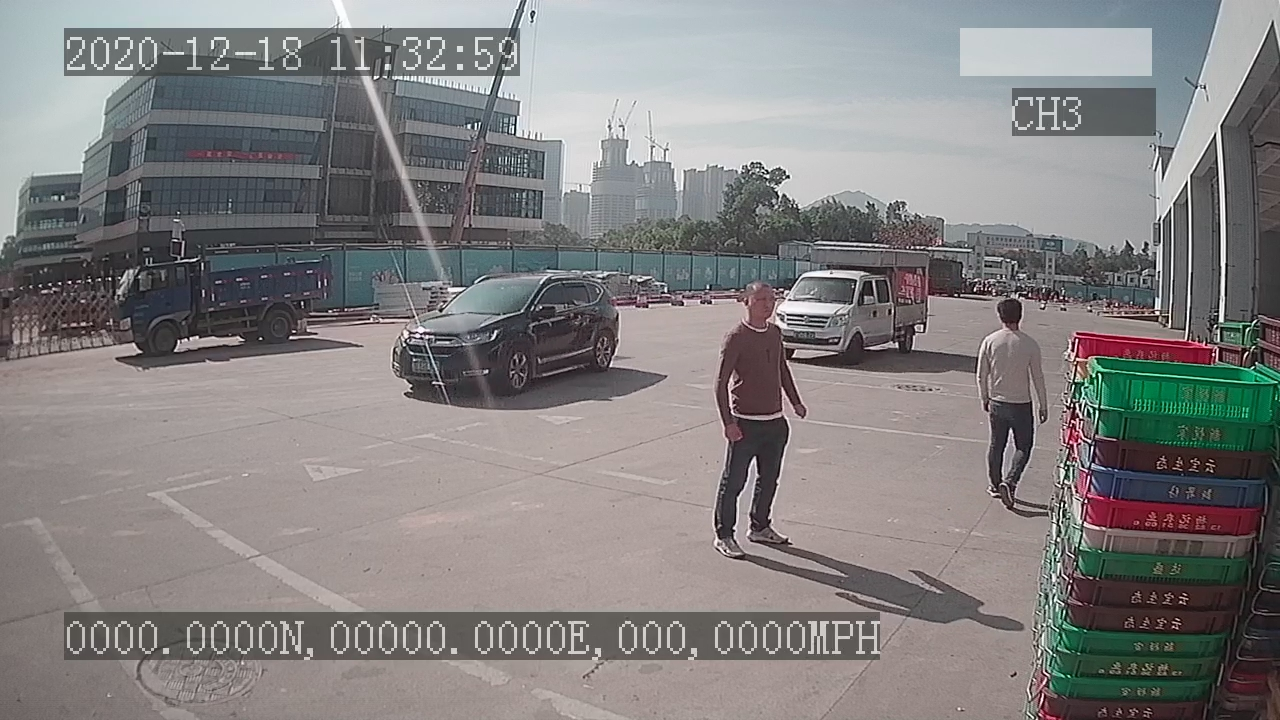person: (974, 295, 1051, 509)
